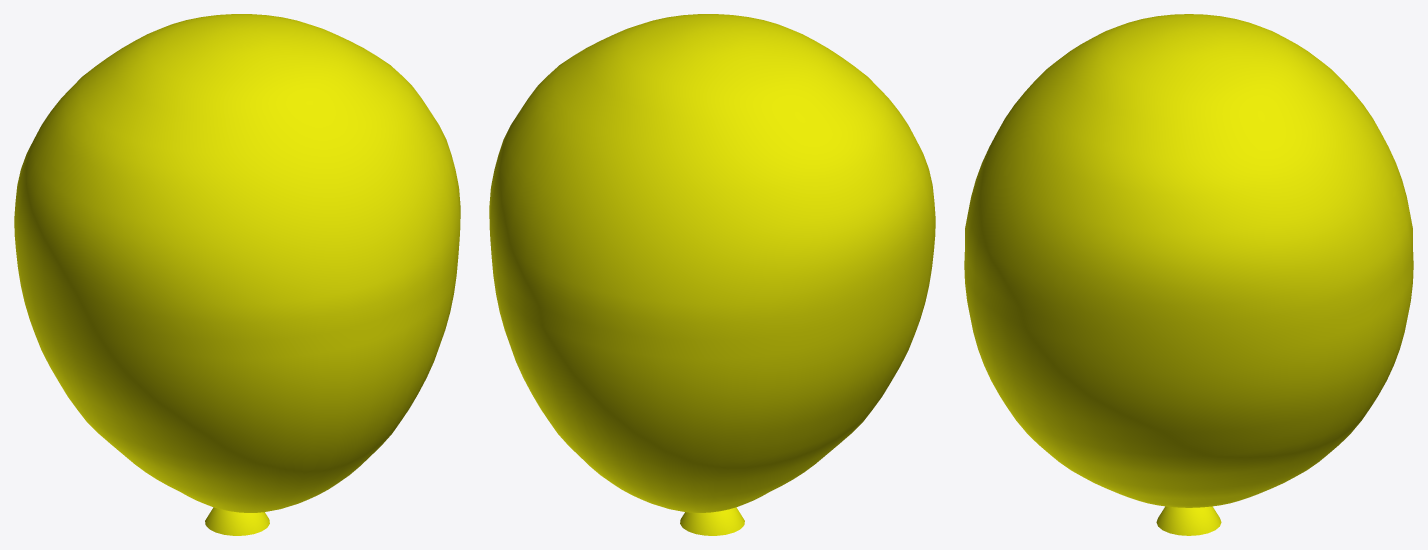
Rendered from enemy02.fbx.
3 views of the same model, side by side, from view 1: azimuth 30°, elevation 25°; view 2: azimuth 150°, elevation 25°; view 3: azimuth 270°, elevation 25° (orthographic).
Visible parts, largest first — view 1: pSphere2; view 2: pSphere2; view 3: pSphere2.
Part boxes in pixels (<box>): pSphere2: <box>14,14,460,535</box>; pSphere2: <box>489,14,935,535</box>; pSphere2: <box>964,14,1413,535</box>.
Size of the model in its own units: 3.79 by 4.53 by 3.81.
